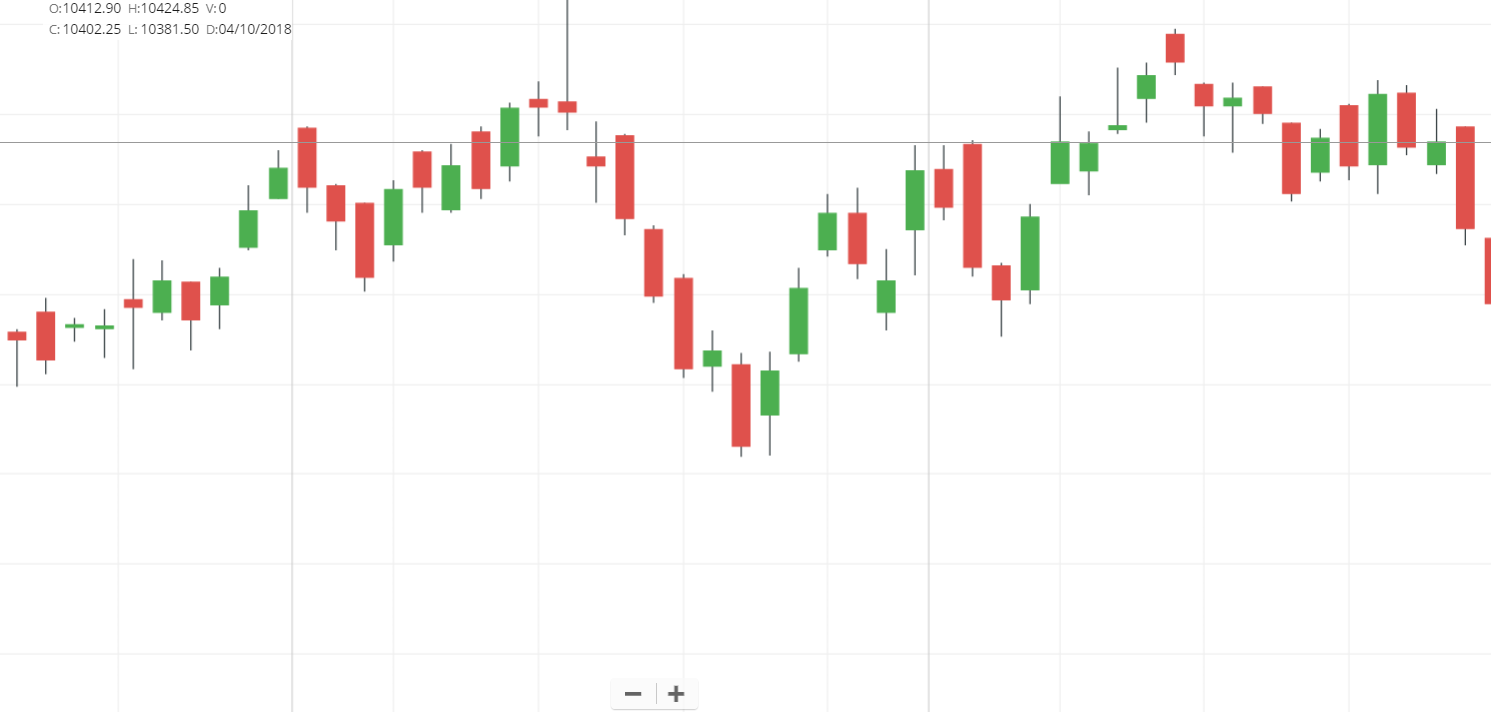doji: (554, 7, 581, 135), (1103, 58, 1134, 147), (1217, 75, 1246, 155), (90, 303, 117, 364)
